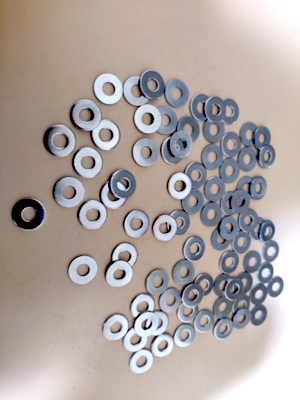circle: (12, 198, 46, 231), (44, 125, 76, 158), (70, 100, 103, 131), (52, 178, 85, 208), (73, 148, 103, 179), (78, 200, 108, 230), (94, 74, 123, 105), (69, 255, 98, 285), (91, 121, 121, 150), (133, 104, 161, 134), (123, 77, 151, 106), (110, 170, 137, 199), (101, 180, 128, 209), (105, 261, 133, 288), (111, 243, 138, 270), (102, 314, 129, 341), (124, 210, 150, 238), (133, 139, 159, 167), (152, 215, 178, 242), (168, 131, 194, 158), (141, 71, 165, 100), (165, 79, 189, 108), (154, 107, 178, 136), (168, 172, 192, 200), (161, 137, 185, 165), (146, 269, 170, 296), (177, 117, 201, 144), (130, 295, 155, 320), (145, 311, 170, 336), (134, 312, 159, 337), (123, 328, 148, 353), (129, 349, 153, 375), (172, 260, 196, 286), (167, 210, 191, 236), (183, 163, 207, 189), (183, 189, 207, 215), (190, 96, 214, 122), (183, 236, 206, 262), (203, 118, 226, 144), (201, 145, 224, 171), (160, 289, 183, 314), (204, 177, 227, 202), (200, 203, 223, 228), (205, 97, 227, 123), (218, 99, 239, 126), (152, 333, 174, 358), (174, 324, 196, 349), (182, 284, 204, 308), (220, 159, 241, 184), (177, 300, 199, 323), (213, 297, 235, 320), (219, 216, 239, 241), (212, 227, 232, 251), (221, 192, 241, 216), (231, 190, 251, 214), (247, 217, 267, 241), (241, 123, 260, 148), (222, 133, 241, 158), (219, 252, 240, 274), (233, 273, 254, 295), (213, 318, 234, 340), (194, 273, 214, 296), (237, 177, 257, 200), (233, 231, 253, 254), (238, 210, 258, 233), (214, 274, 234, 297), (239, 148, 258, 172), (243, 251, 262, 274), (258, 145, 276, 169), (254, 127, 272, 151), (250, 176, 267, 201), (225, 279, 244, 301), (233, 308, 252, 330), (250, 284, 268, 306), (233, 295, 251, 317), (262, 242, 280, 263), (257, 263, 274, 284), (268, 277, 285, 298), (251, 305, 268, 326), (260, 221, 275, 243)
